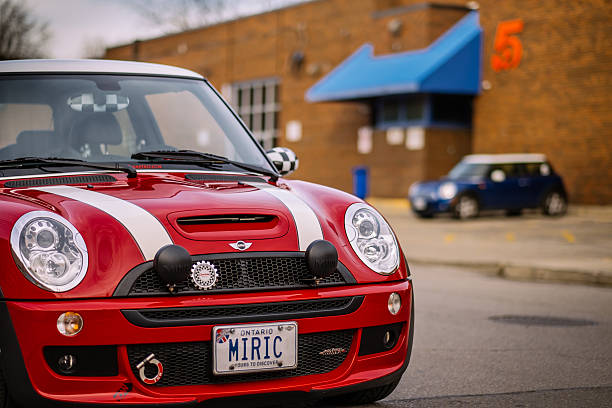licence: (211, 326, 297, 371)
